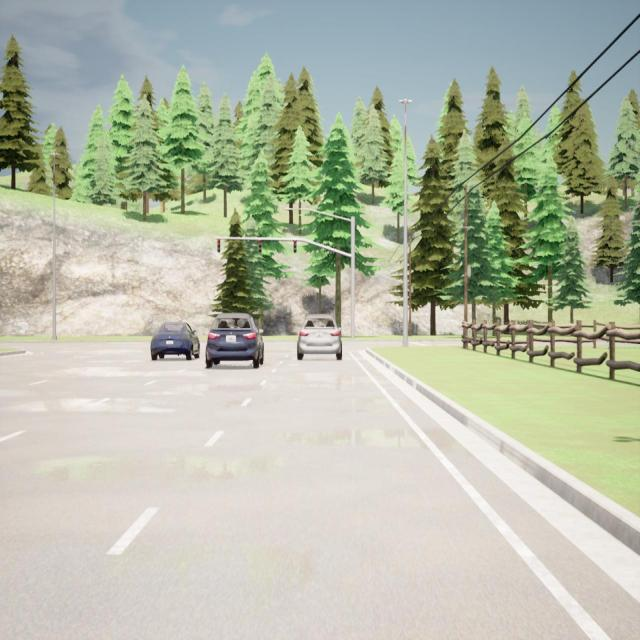Vehicle: (206, 312, 266, 368), (295, 313, 344, 362), (150, 321, 201, 362)
traffic_light: (217, 239, 220, 253), (259, 240, 262, 252), (294, 240, 296, 253)
